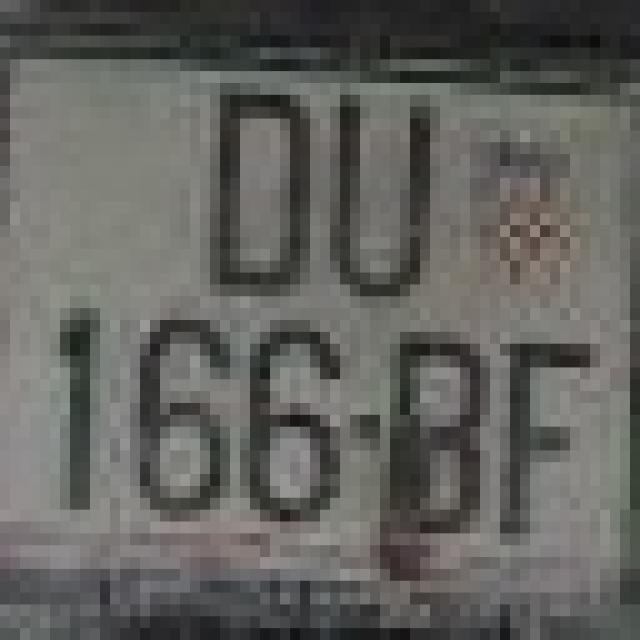1: (50, 296, 100, 522)
6: (130, 308, 230, 510), (260, 332, 340, 522)
B: (380, 332, 490, 534)
D: (190, 94, 330, 308)
F: (500, 332, 600, 569)
U: (330, 94, 450, 308)
